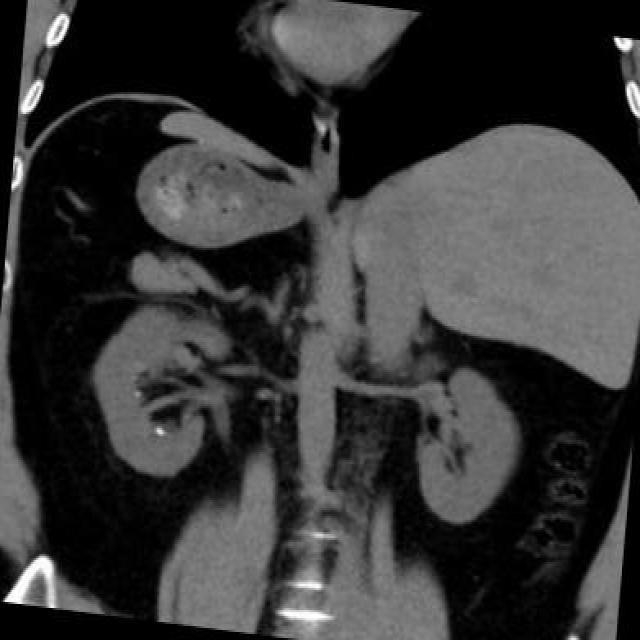Tas_Var: (152, 424, 164, 438), (131, 388, 141, 398)
